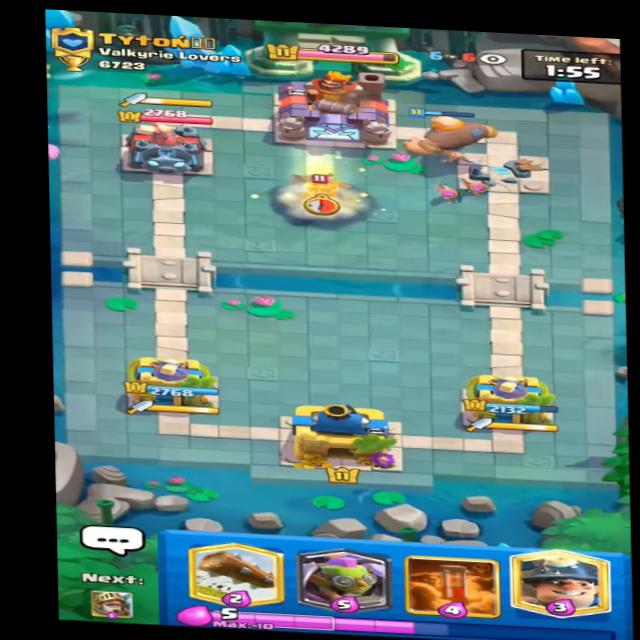little-prince: (288, 171, 365, 215)
